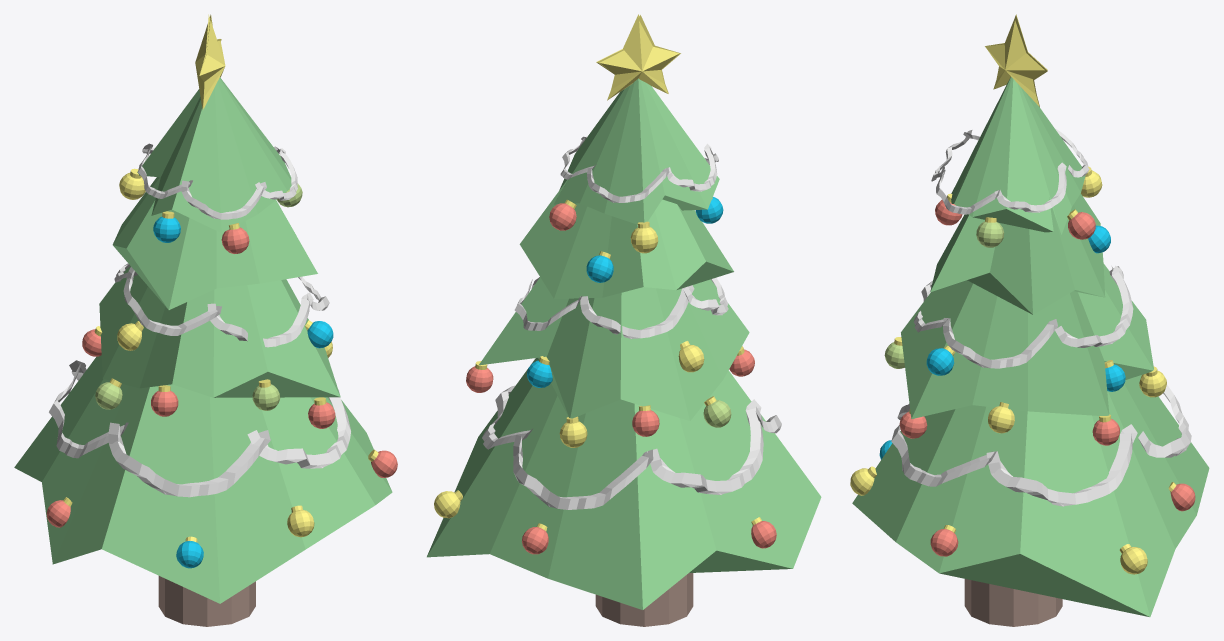
Rendered from holiday_tree.glb.
3 views of the same model, side by side, from view 1: azimuth 30°, elevation 25°; view 2: azimuth 150°, elevation 25°; view 3: azimuth 270°, elevation 25° (orthographic).
Parts seen in each view (by area): view 1: mesh_750709173_material_10___7503_0, mesh_261948159_material_10___7503_0, mesh_1124433583_material_10___7503_0, mesh_921702532_material_10___7503_0, mesh_2109888622_material_20___7503_0, mesh_1972382091_material_25___7503_0, mesh_1867014675_material_25___7503_0, mesh_883033415_material_12___7506_0, mesh_944990350_material_25___7503_0, mesh_1392106149_material_25___7503_0, mesh_1444980954_material_25___7506_0, mesh_18218124_material_25___7506_0 (+13 smaller); view 2: mesh_750709173_material_10___7503_0, mesh_261948159_material_10___7503_0, mesh_921702532_material_10___7503_0, mesh_1124433583_material_10___7503_0, mesh_372271958_material_12___7506_0, mesh_2109888622_material_20___7503_0, mesh_1392106149_material_25___7503_0, mesh_1028190047_material_25___7503_0, mesh_2111284891_material_25___7506_0, mesh_1977168495_material_25___7503_0, mesh_1279164420_material_25___7503_0, mesh_1261641150_material_5___7506_0 (+13 smaller); view 3: mesh_750709173_material_10___7503_0, mesh_261948159_material_10___7503_0, mesh_1124433583_material_10___7503_0, mesh_921702532_material_10___7503_0, mesh_2109888622_material_20___7503_0, mesh_883033415_material_12___7506_0, mesh_2069037495_material_25___7503_0, mesh_64815701_material_25___7506_0, mesh_1028190047_material_25___7503_0, mesh_2010948294_material_25___7503_0, mesh_1867014675_material_25___7503_0, mesh_1269135870_material_25___7503_0 (+14 smaller).
Part boxes in pixels (<box>): mesh_750709173_material_10___7503_0: <box>14,355,392,603</box>; mesh_261948159_material_10___7503_0: <box>99,266,340,397</box>; mesh_1124433583_material_10___7503_0: <box>137,77,291,232</box>; mesh_921702532_material_10___7503_0: <box>112,177,317,309</box>; mesh_2109888622_material_20___7503_0: <box>158,576,255,626</box>; mesh_1972382091_material_25___7503_0: <box>108,422,228,497</box>; mesh_1867014675_material_25___7503_0: <box>247,429,349,468</box>; mesh_883033415_material_12___7506_0: <box>199,14,225,109</box>; mesh_944990350_material_25___7503_0: <box>219,430,270,489</box>; mesh_1392106149_material_25___7503_0: <box>49,363,84,458</box>; mesh_1444980954_material_25___7506_0: <box>207,303,296,347</box>; mesh_18218124_material_25___7506_0: <box>123,267,181,335</box>; mesh_750709173_material_10___7503_0: <box>427,358,821,609</box>; mesh_261948159_material_10___7503_0: <box>479,277,749,420</box>; mesh_921702532_material_10___7503_0: <box>519,179,733,298</box>; mesh_1124433583_material_10___7503_0: <box>554,78,719,224</box>; mesh_372271958_material_12___7506_0: <box>596,14,679,100</box>; mesh_2109888622_material_20___7503_0: <box>595,573,693,626</box>; mesh_1392106149_material_25___7503_0: <box>647,448,759,494</box>; mesh_1028190047_material_25___7503_0: <box>513,435,605,509</box>; mesh_2111284891_material_25___7506_0: <box>580,296,672,339</box>; mesh_1977168495_material_25___7503_0: <box>599,449,653,504</box>; mesh_1279164420_material_25___7503_0: <box>745,399,763,467</box>; mesh_1261641150_material_5___7506_0: <box>586,255,613,282</box>; mesh_750709173_material_10___7503_0: <box>852,375,1209,616</box>; mesh_261948159_material_10___7503_0: <box>901,264,1153,419</box>; mesh_1124433583_material_10___7503_0: <box>951,77,1085,234</box>; mesh_921702532_material_10___7503_0: <box>930,193,1105,314</box>; mesh_2109888622_material_20___7503_0: <box>964,579,1062,626</box>; mesh_883033415_material_12___7506_0: <box>985,14,1047,106</box>; mesh_2069037495_material_25___7503_0: <box>986,451,1116,506</box>; mesh_64815701_material_25___7506_0: <box>943,318,1027,368</box>; mesh_1028190047_material_25___7503_0: <box>1138,403,1191,457</box>; mesh_2010948294_material_25___7503_0: <box>1055,308,1132,347</box>; mesh_1867014675_material_25___7503_0: <box>891,425,941,486</box>; mesh_1269135870_material_25___7503_0: <box>1107,424,1137,487</box>.
Size of the model in its own units: 4.55 by 8.18 by 4.48.
